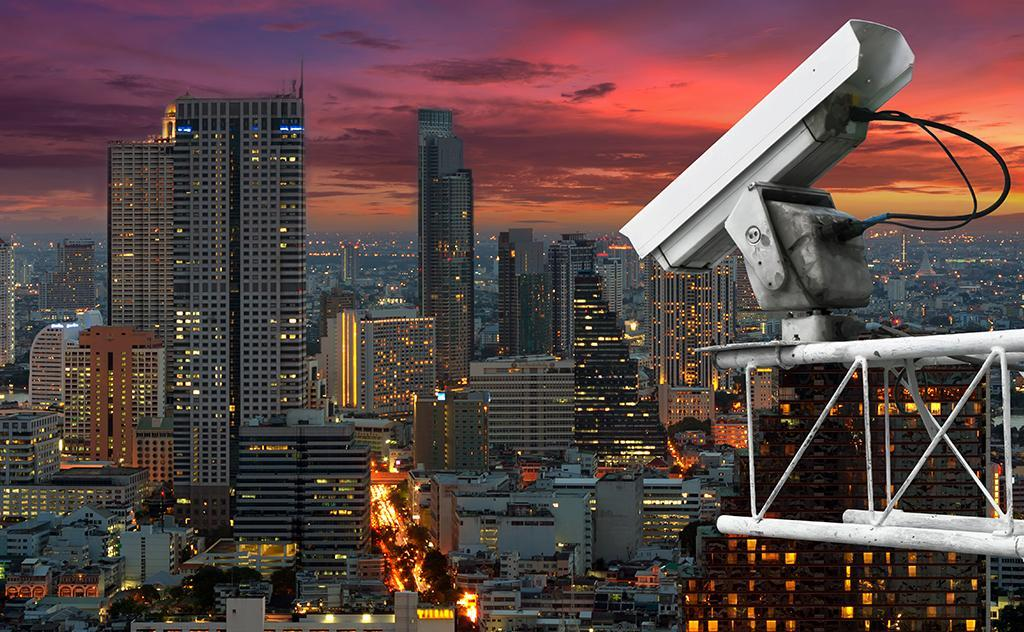camera: (597, 7, 1018, 315)
